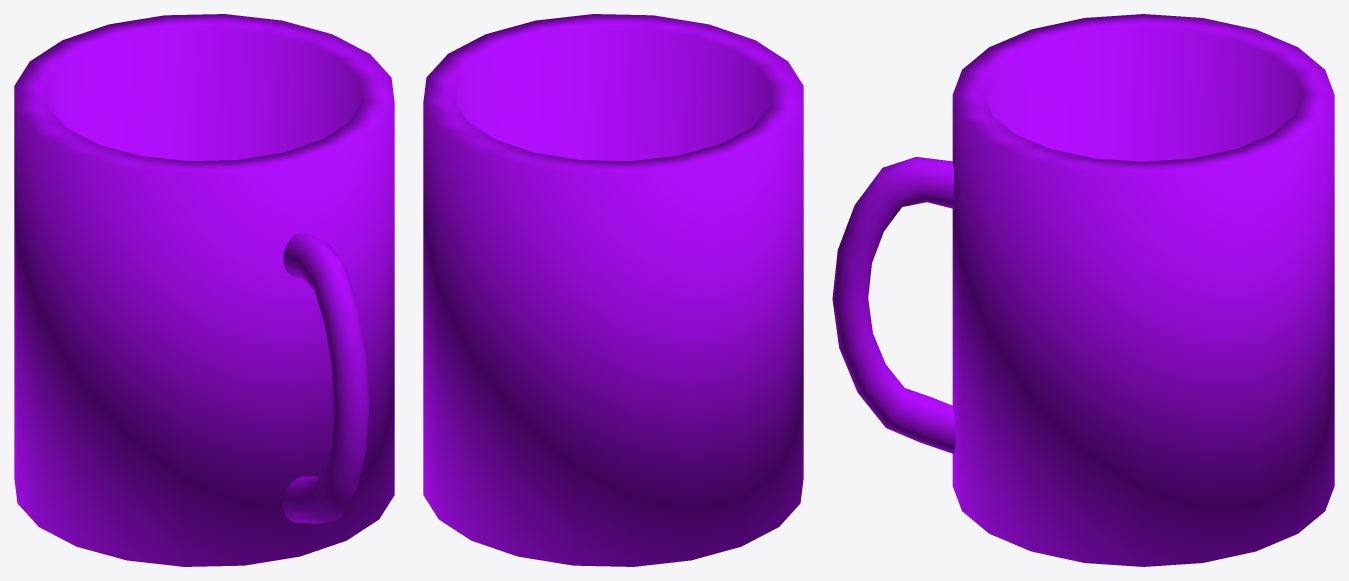
The model's file is Ob_Cup.FBX.
3 views of the same model, side by side, from view 1: azimuth 30°, elevation 25°; view 2: azimuth 150°, elevation 25°; view 3: azimuth 270°, elevation 25° (orthographic).
Parts seen in each view (by area): view 1: Cup LP; view 2: Cup LP; view 3: Cup LP.
Boxes of the visible parts, bbox=[...] form: Cup LP: bbox=[14, 14, 394, 566]; Cup LP: bbox=[423, 14, 803, 566]; Cup LP: bbox=[832, 14, 1334, 566].
Size of the model in its own units: 12.28 by 13.89 by 16.14.
